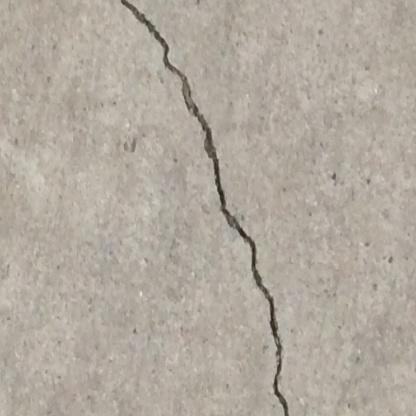Cracks: (116, 0, 298, 416)
